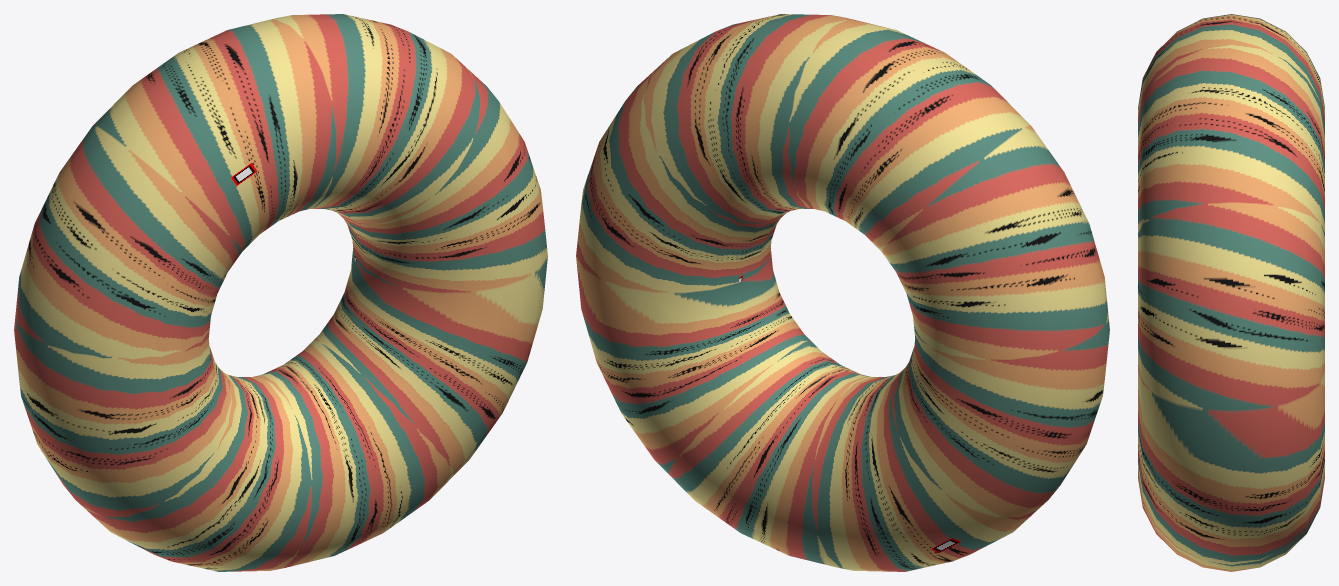
The model's file is uv_checkerboard_res_1024_iter_10_dehn_twist.glb.
3 renders of one model, left to right at view 1: azimuth 30°, elevation 25°; view 2: azimuth 150°, elevation 25°; view 3: azimuth 270°, elevation 25°, orthographic. The views are drawn at different scales.
Visible parts, largest first — view 1: Node; view 2: Node; view 3: Node.
Part boxes in pixels (x1,y1,x2,y2): Node: [14, 14, 547, 571]; Node: [576, 14, 1109, 571]; Node: [1138, 14, 1324, 571].
Size of the model in its own units: 3 by 2.98 by 1.
Materials: 1 (1 with a texture image).
